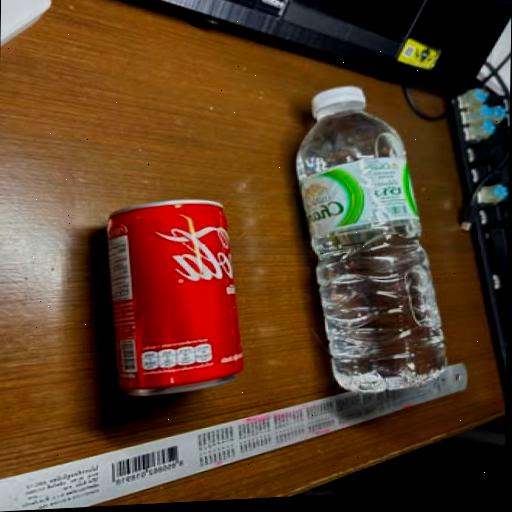bottle: (265, 60, 466, 418)
canned: (79, 165, 253, 420)
